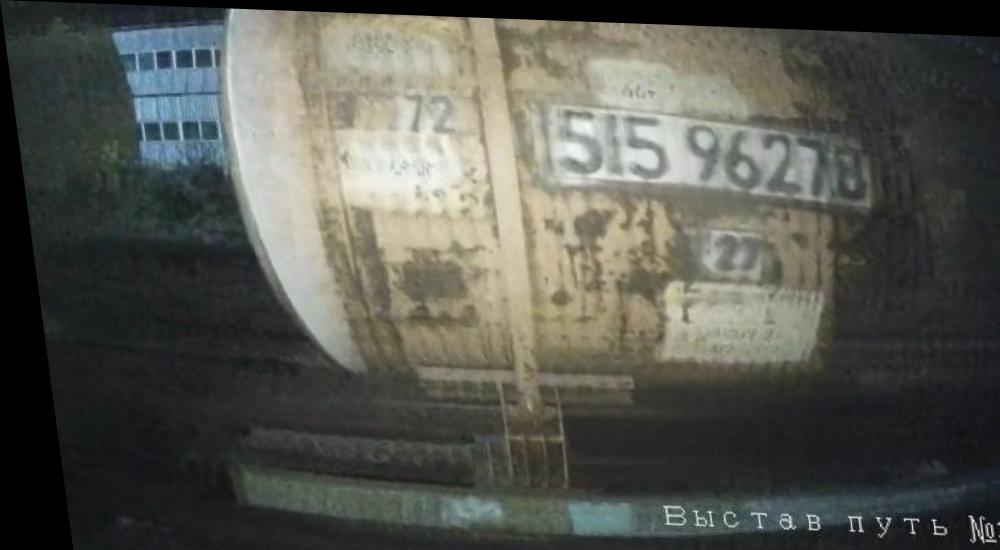Wagon-number: (543, 98, 871, 200)
